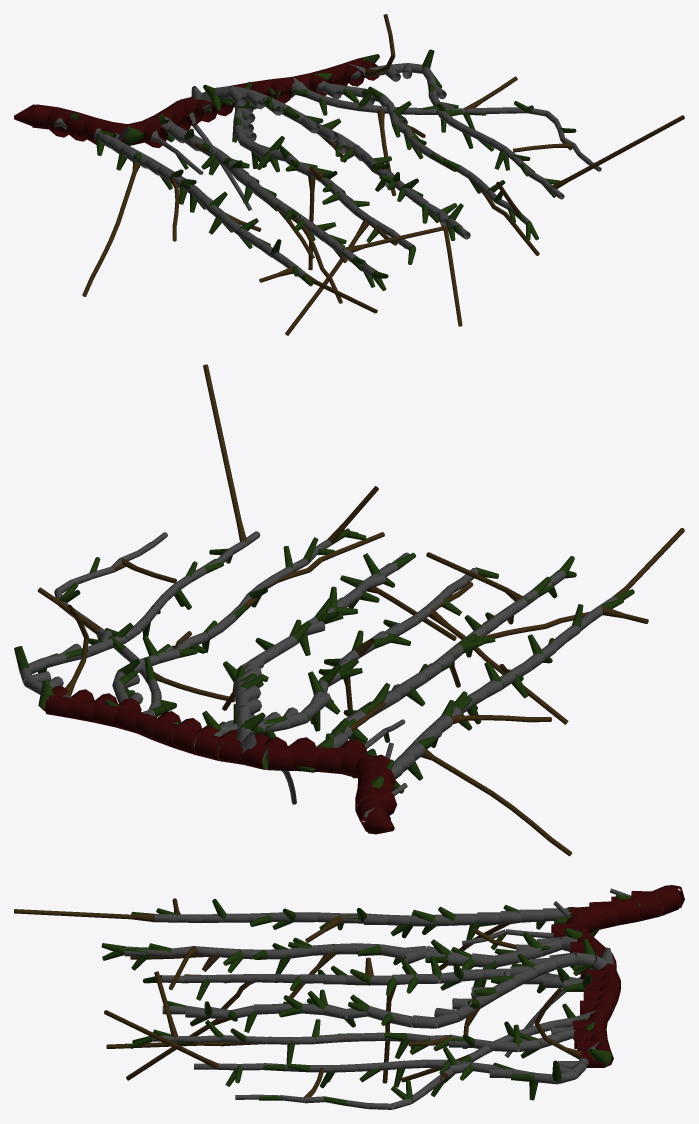
The model's file is tree_5.obj.
The picture shows the model from 3 angles, top to bottom: view 1: azimuth 30°, elevation 25°; view 2: azimuth 150°, elevation 25°; view 3: azimuth 270°, elevation 25°; orthographic projection. The views are drawn at different scales.
Bounding box in the file's own units: 24.68 × 9.69 × 28.55.
